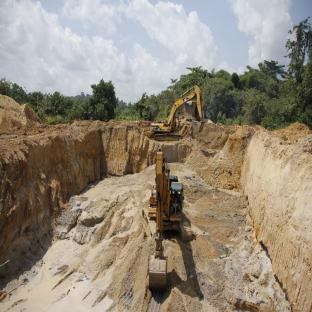ExcavationMachinery: (145, 147, 195, 292), (150, 80, 205, 141)
